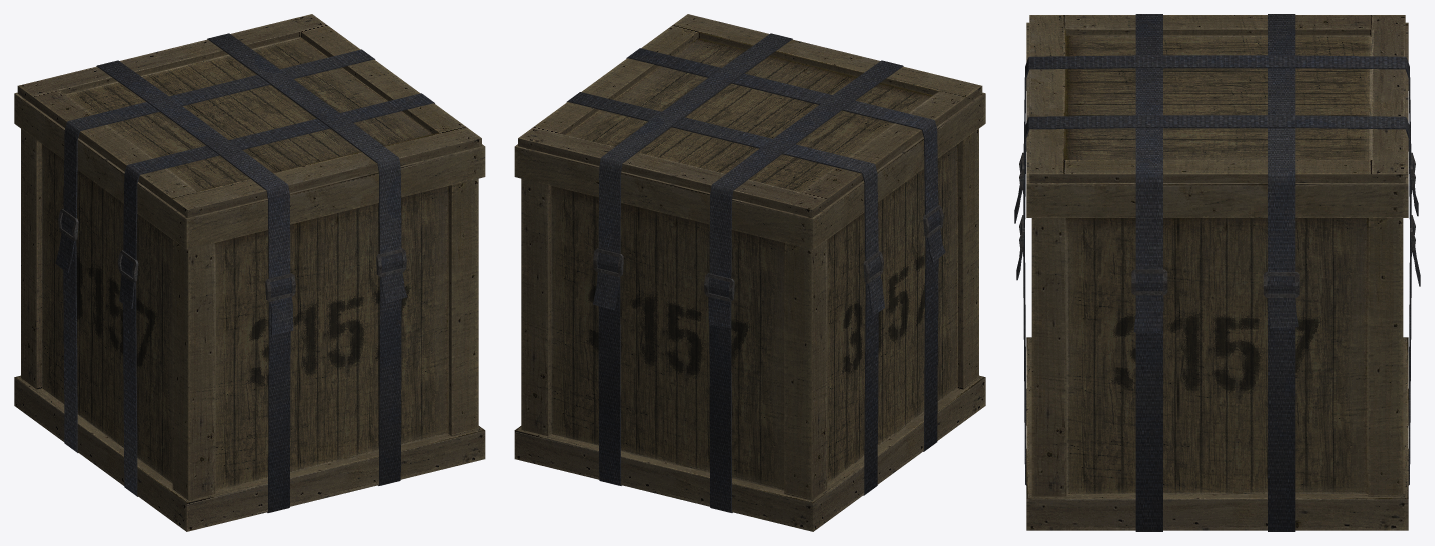
File: wooden_crate_hx_5.glb
The picture shows the model from 3 angles, left to right: view 1: azimuth 30°, elevation 25°; view 2: azimuth 150°, elevation 25°; view 3: azimuth 270°, elevation 25°; orthographic projection. The views are drawn at different scales.
Parts seen in each view (by area): view 1: wooden_crate_hx_5; view 2: wooden_crate_hx_5; view 3: wooden_crate_hx_5.
Part boxes in pixels (left/top/right/bottom): wooden_crate_hx_5: left=14, top=14, right=485, bottom=531; wooden_crate_hx_5: left=514, top=14, right=985, bottom=531; wooden_crate_hx_5: left=1014, top=14, right=1420, bottom=531.
Bounding box in the file's own units: 1.49 × 1.46 × 1.49.
Materials: 3 (3 with a texture image).
